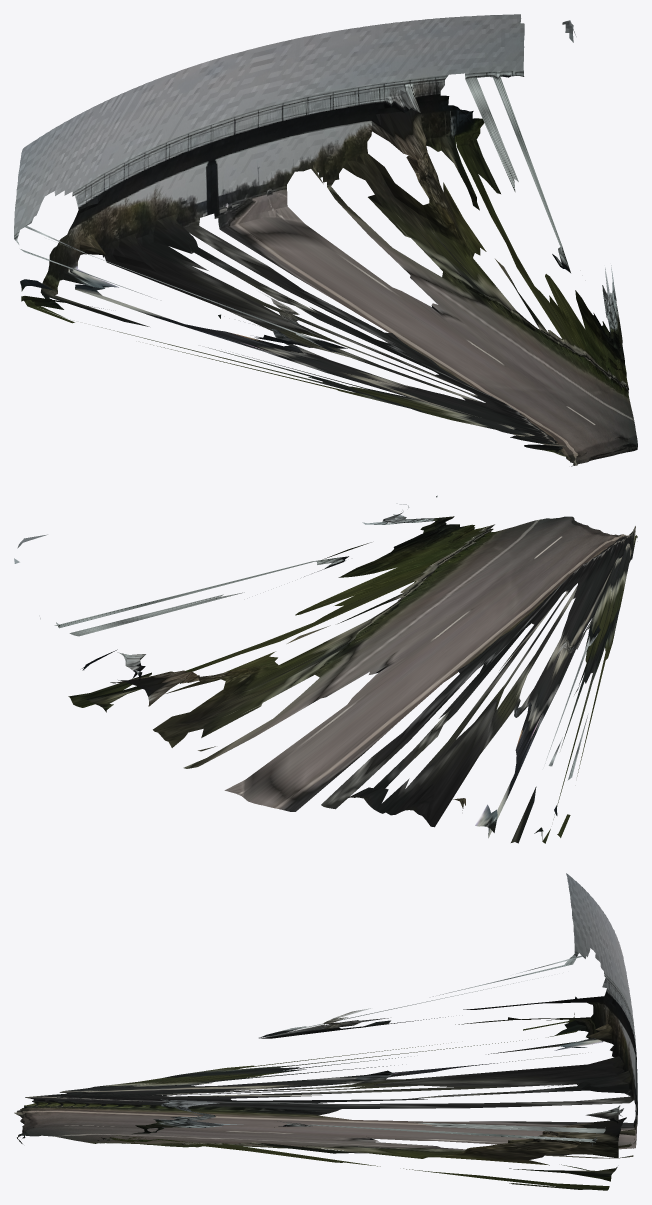
The picture shows the model from 3 angles, top to bottom: view 1: azimuth 30°, elevation 25°; view 2: azimuth 150°, elevation 25°; view 3: azimuth 270°, elevation 25°; orthographic projection. The views are drawn at different scales.
Visible parts, largest first — view 1: defaultobject; view 2: defaultobject; view 3: defaultobject.
Part boxes in pixels (x1,y1,x2,y2): defaultobject: (14,14,637,466); defaultobject: (14,495,637,843); defaultobject: (14,873,637,1190).
Size of the model in its own units: 40.83 by 12.7 by 44.66.
Materials: 1 (1 with a texture image).
